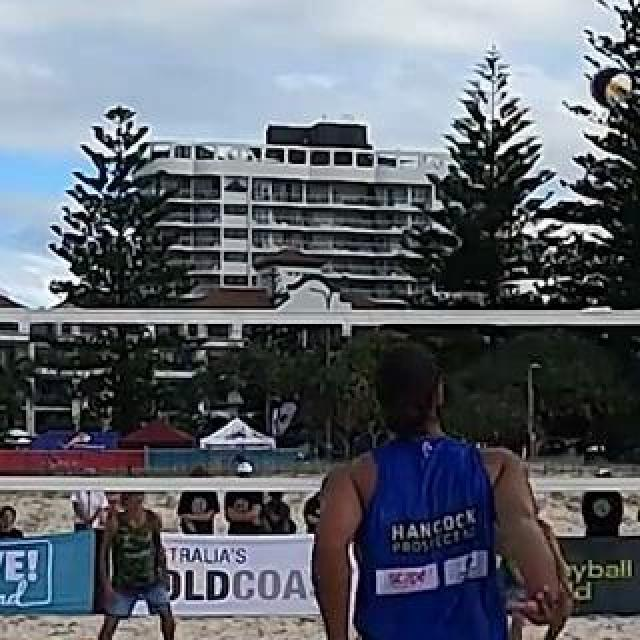volleyball: (598, 71, 630, 105)
